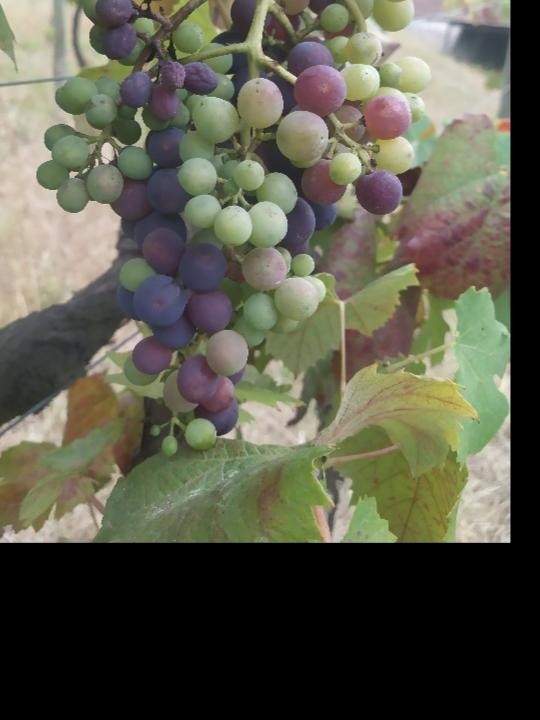grape: (33, 0, 434, 459)
